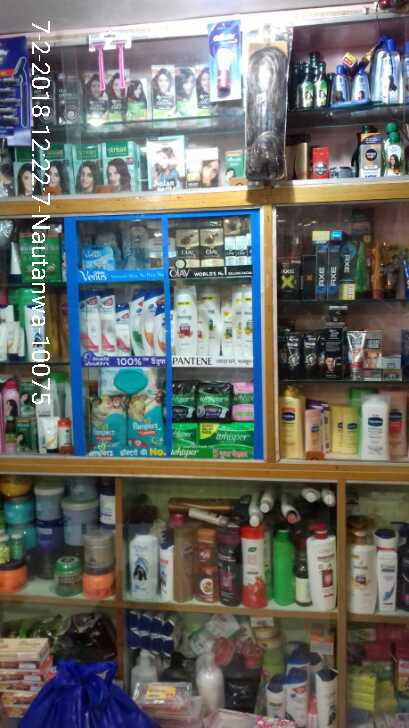venus: (82, 244, 119, 269), (122, 226, 142, 269), (145, 237, 164, 268)
